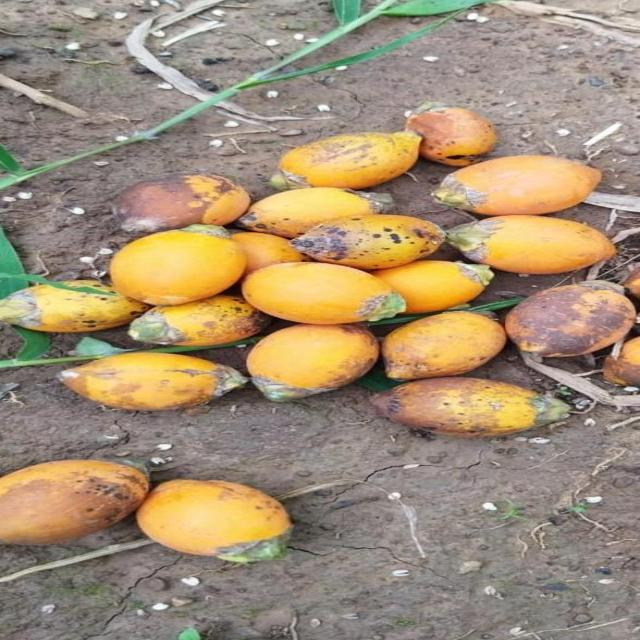good: (374, 378, 573, 437), (447, 215, 618, 278), (110, 230, 247, 308), (433, 156, 603, 218), (60, 352, 225, 414), (506, 280, 637, 358), (247, 326, 379, 400), (244, 262, 390, 328), (288, 214, 446, 271), (384, 311, 506, 384), (280, 132, 421, 191), (0, 279, 145, 336), (119, 176, 254, 236), (234, 188, 379, 240), (368, 258, 494, 317), (127, 296, 256, 347)
